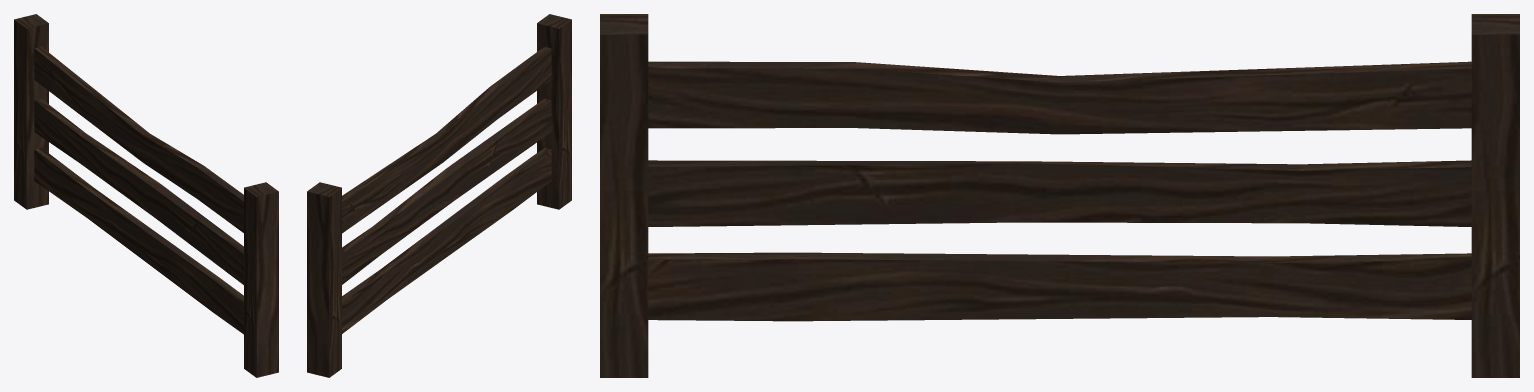
The model's file is CercaCityPath2.fbx.
The picture shows the model from 3 angles, left to right: view 1: azimuth 30°, elevation 25°; view 2: azimuth 150°, elevation 25°; view 3: azimuth 270°, elevation 25°; orthographic projection. The views are drawn at different scales.
Parts seen in each view (by area): view 1: Cerca .006; view 2: Cerca .006; view 3: Cerca .006.
Part boxes in pixels (x1,y1,x2,y2): Cerca .006: (14, 14, 278, 377); Cerca .006: (307, 14, 571, 377); Cerca .006: (600, 14, 1519, 377).
Bounding box in the file's own units: 23.79 × 184 × 447.
